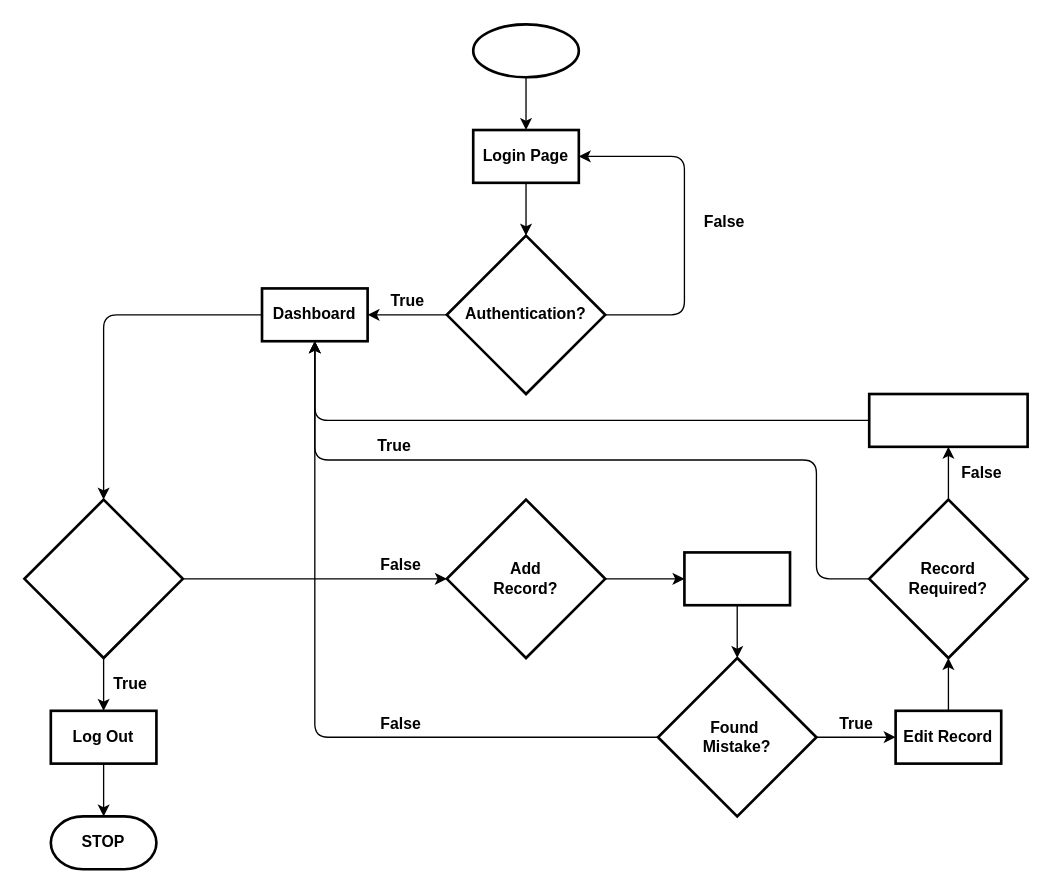
Image size: 1051x892. Some labels were removed from this diagram. Here are the shapes that lost their labels. From the top down, the centre of each, then its label:
At point 525,50: "START".
At point 947,419: "Delete Record".
At point 102,578: "Operation Complete?".
At point 736,578: "Add Record".
